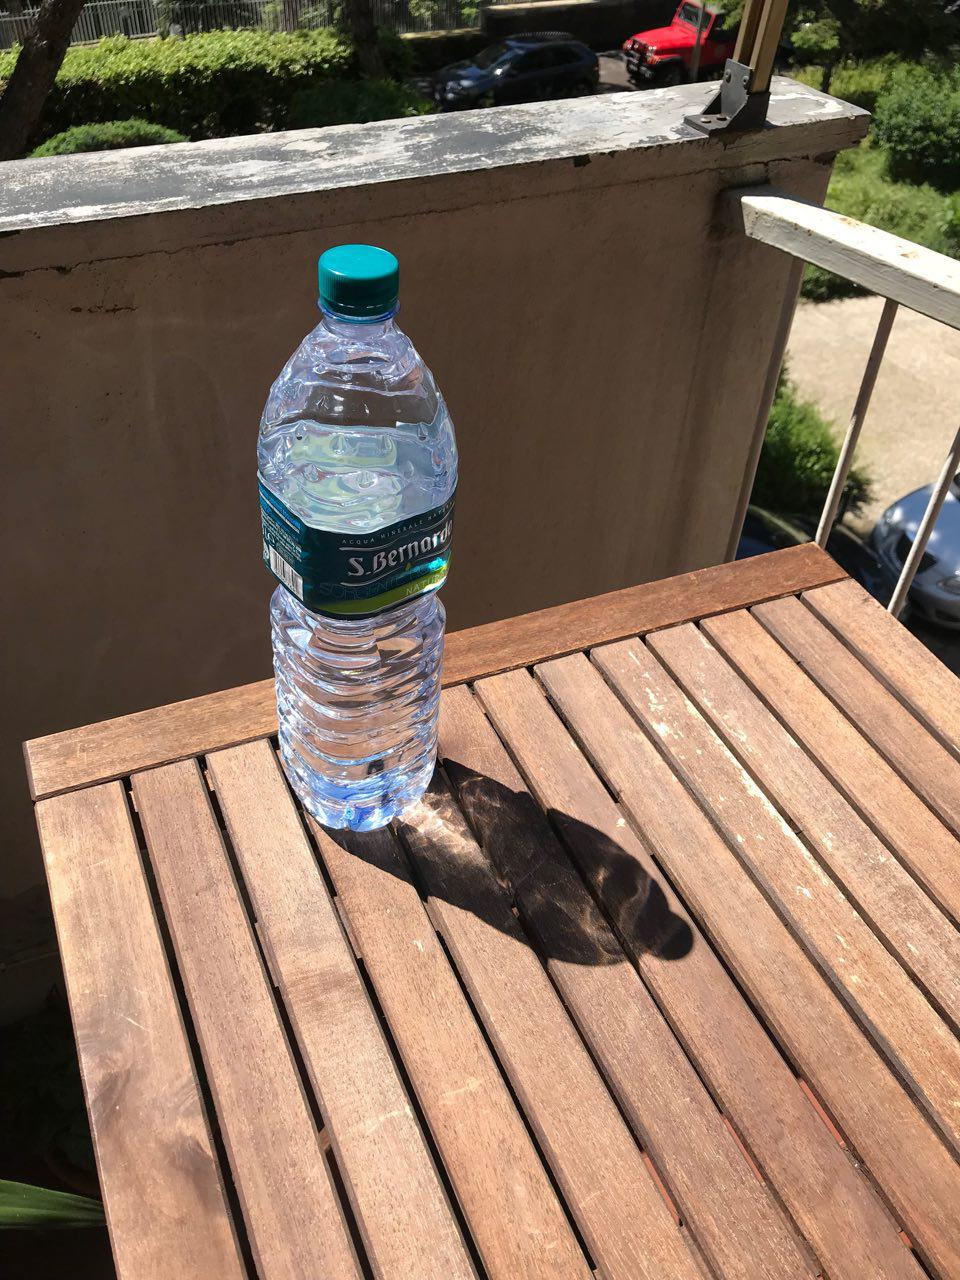san_bernardo: (255, 243, 458, 835)
